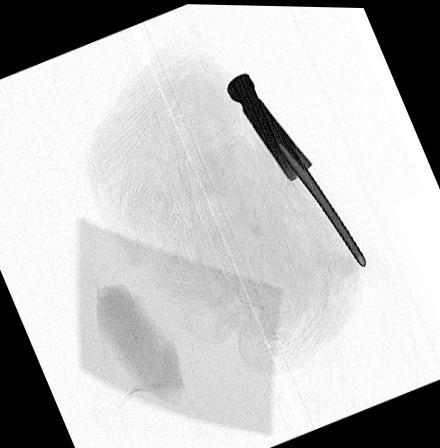Hammer: (226, 69, 367, 265)
